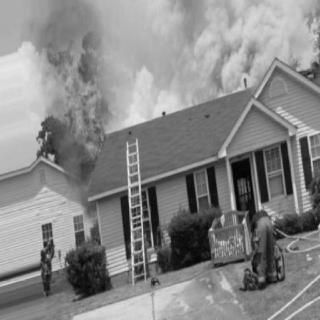Fire: (46, 34, 108, 157)
Smoke: (104, 0, 257, 118), (252, 0, 314, 69)
